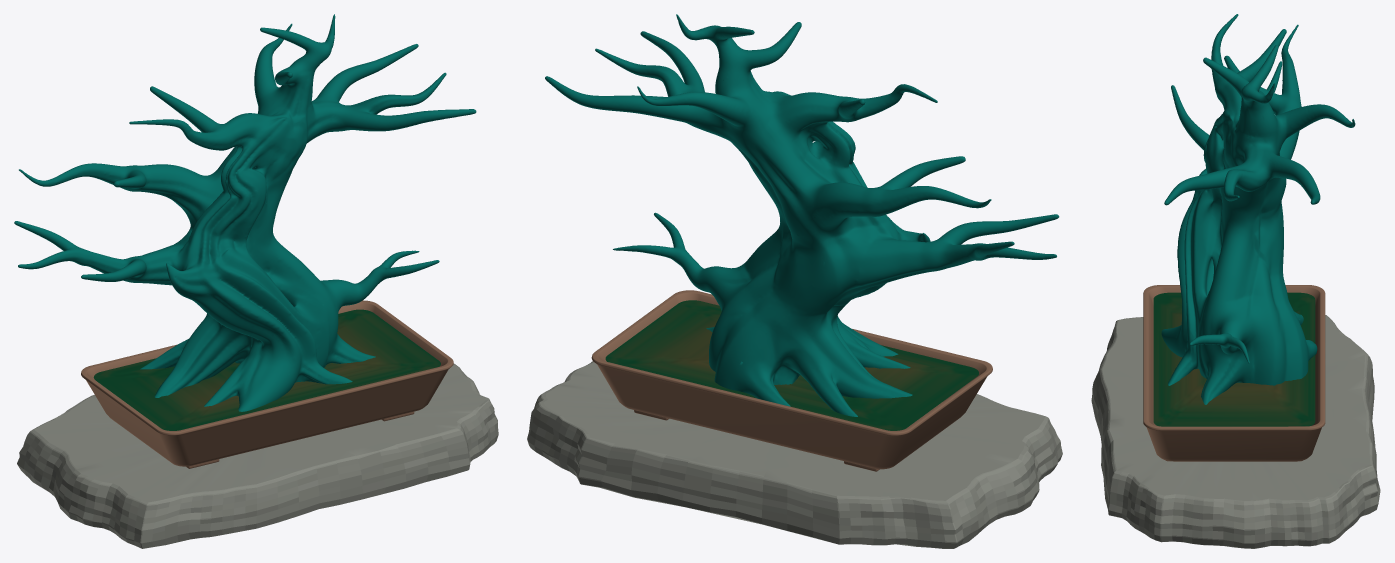
File: coarse-v10.glb
The picture shows the model from 3 angles, left to right: view 1: azimuth 30°, elevation 25°; view 2: azimuth 150°, elevation 25°; view 3: azimuth 270°, elevation 25°; orthographic projection. The views are drawn at different scales.
Parts seen in each view (by area): view 1: Continuous aged trunk and primary branches, Low split natural bedding stone, Shallow unglazed pot, Continuous planted soil; view 2: Continuous aged trunk and primary branches, Low split natural bedding stone, Shallow unglazed pot, Continuous planted soil; view 3: Continuous aged trunk and primary branches, Low split natural bedding stone, Continuous planted soil, Shallow unglazed pot.
Boxes of the visible parts, x1,y1,x2,y2 form: Continuous aged trunk and primary branches: [14, 14, 476, 411]; Low split natural bedding stone: [17, 363, 498, 548]; Shallow unglazed pot: [81, 300, 453, 466]; Continuous planted soil: [93, 309, 440, 430]; Continuous aged trunk and primary branches: [545, 14, 1059, 416]; Low split natural bedding stone: [527, 361, 1062, 548]; Shallow unglazed pot: [591, 290, 992, 469]; Continuous planted soil: [605, 300, 978, 430]; Continuous aged trunk and primary branches: [1161, 14, 1355, 404]; Low split natural bedding stone: [1091, 315, 1380, 548]; Continuous planted soil: [1153, 292, 1315, 426]; Shallow unglazed pot: [1143, 285, 1325, 461].
Size of the model in its own units: 2.48 by 2.15 by 1.36.
